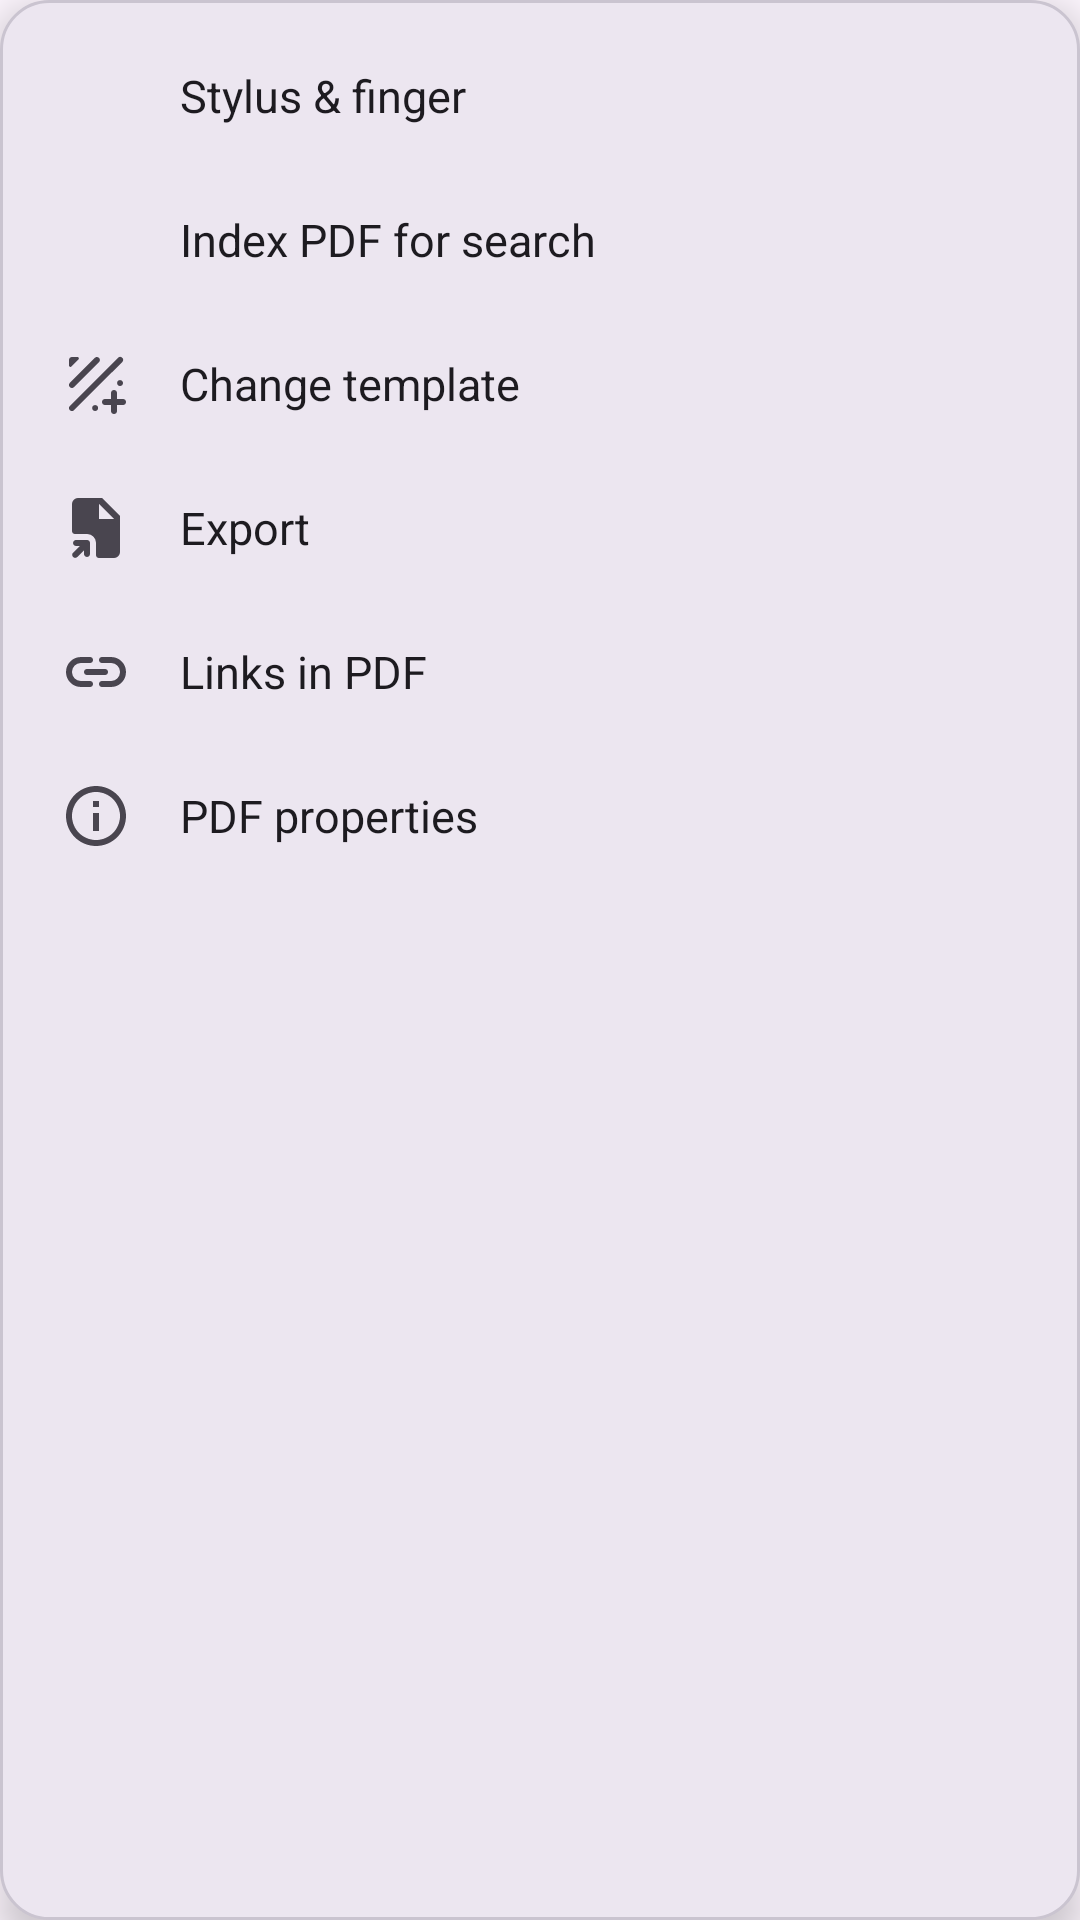

Icon click points for this 1080 x 1920 phone screenshot, format point (x, y):
info: point (96, 816)
